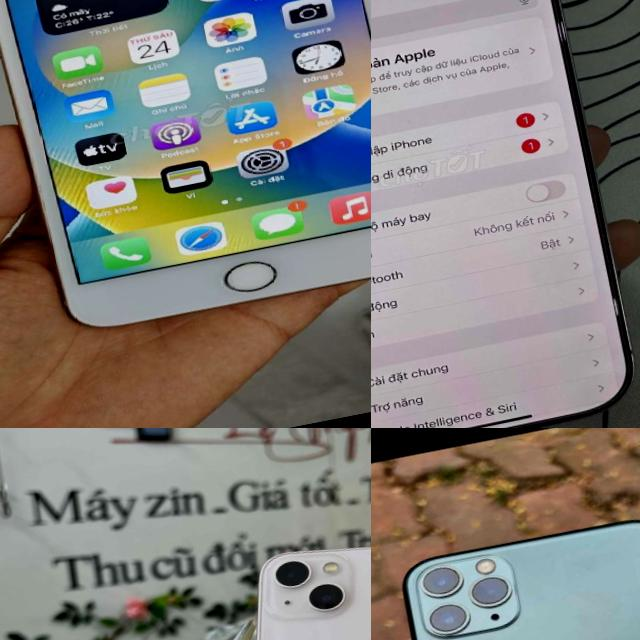gen_11: (387, 493, 640, 640)
gen_12_13: (185, 510, 371, 640)
gen_16: (371, 0, 632, 428)
gen_7_8: (0, 0, 371, 349)
